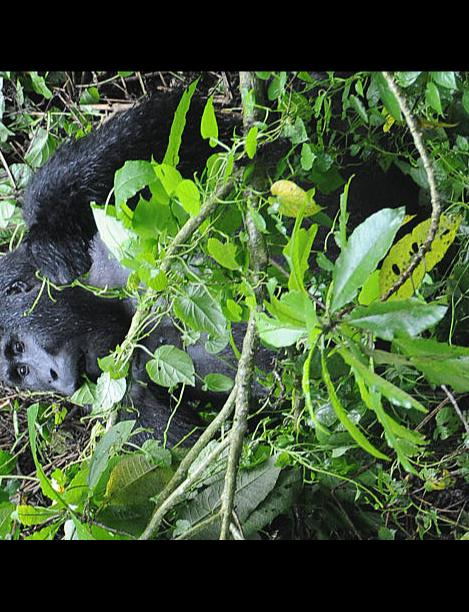goriile_montagne: (0, 91, 321, 428)
